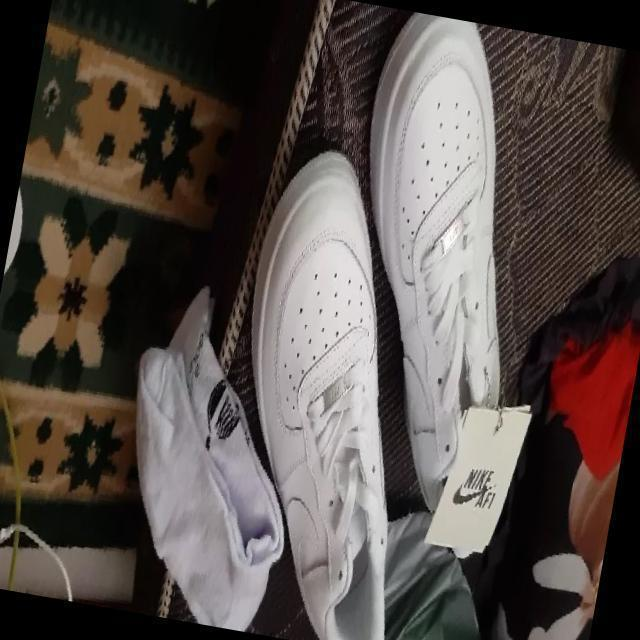nike fake air force: (303, 8, 582, 536), (193, 141, 470, 640)
